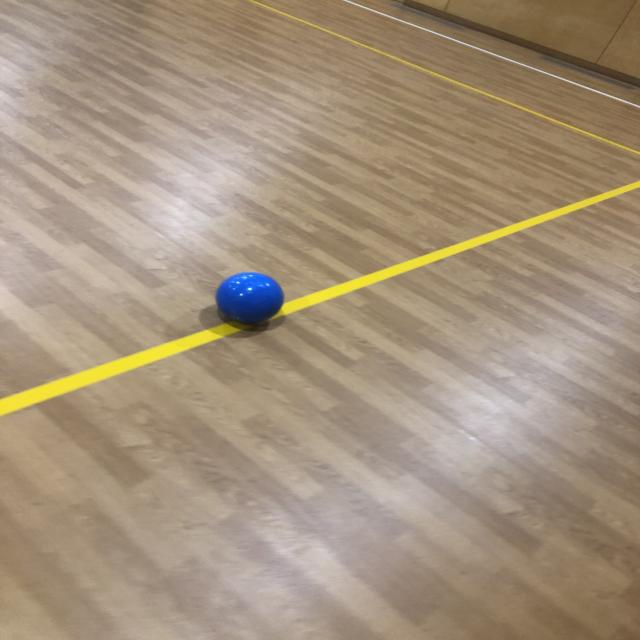blue_ball: (211, 272, 288, 330)
